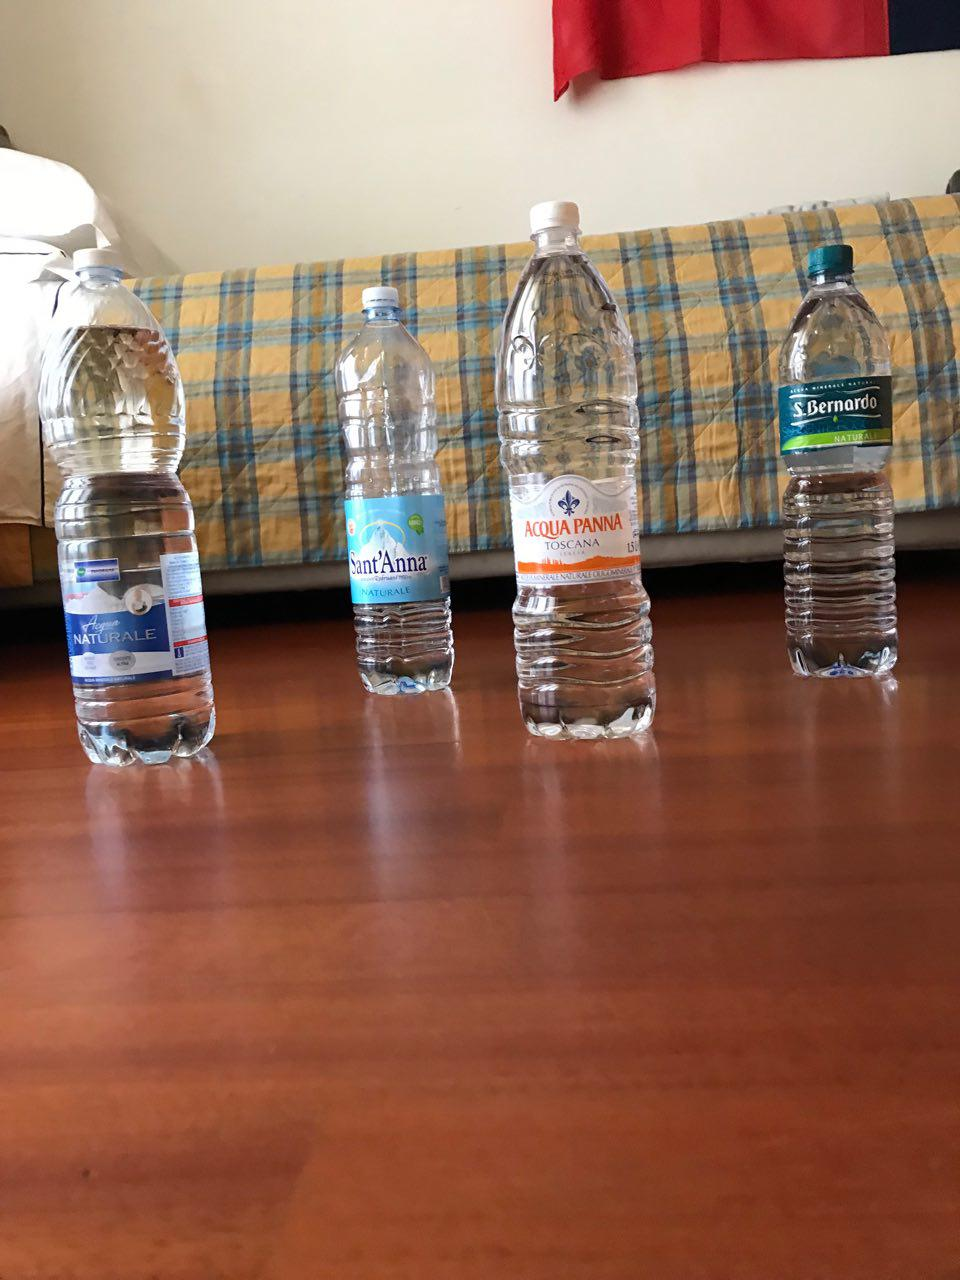san_bernardo: (778, 244, 898, 679)
